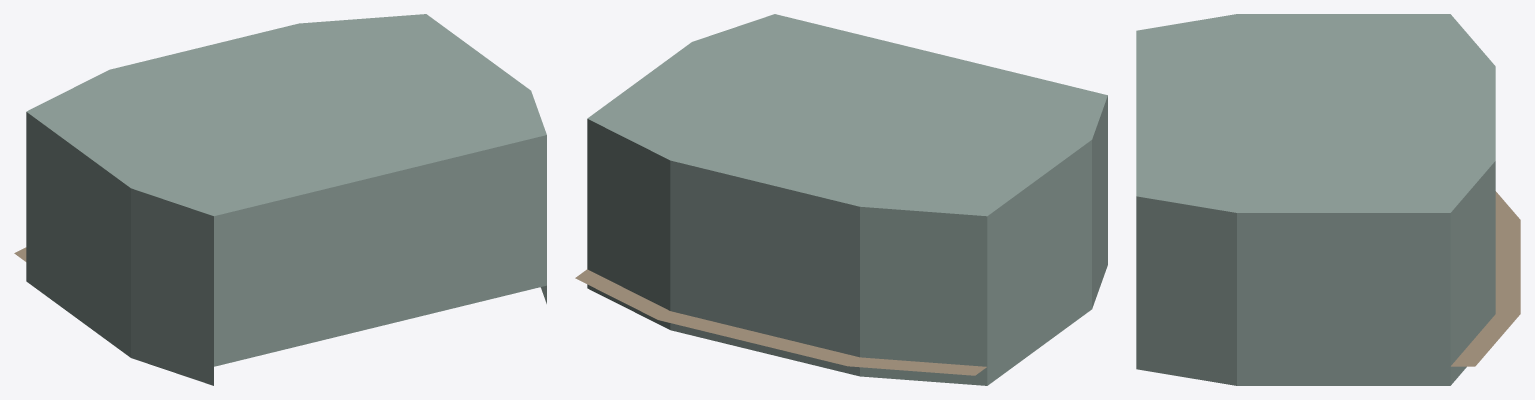
File: AMPHI_01_v5.fbx
The picture shows the model from 3 angles, left to right: view 1: azimuth 30°, elevation 25°; view 2: azimuth 150°, elevation 25°; view 3: azimuth 270°, elevation 25°; orthographic projection.
Visible parts, largest first — view 1: plafond, mur_devant, mur_G; view 2: plafond, mur_arriere, mur_G, sol; view 3: plafond, mur_D, mur_arriere, sol.
Boxes of the visible parts, x1=… form: plafond: x1=26, y1=14, x2=546, y2=215; mur_devant: x1=214, y1=135, x2=546, y2=366; mur_G: x1=26, y1=112, x2=213, y2=385; plafond: x1=587, y1=14, x2=1107, y2=216; mur_arriere: x1=587, y1=119, x2=987, y2=385; mur_G: x1=987, y1=96, x2=1107, y2=385; sol: x1=575, y1=269, x2=986, y2=375; plafond: x1=1136, y1=14, x2=1495, y2=212; mur_D: x1=1136, y1=196, x2=1450, y2=385; mur_arriere: x1=1450, y1=161, x2=1495, y2=385; sol: x1=1451, y1=191, x2=1520, y2=366.
Size of the model in its own units: 1853 by 751 by 1511.
